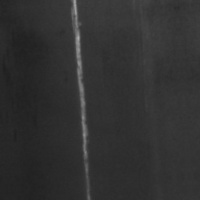scratches: (67, 4, 97, 184)
